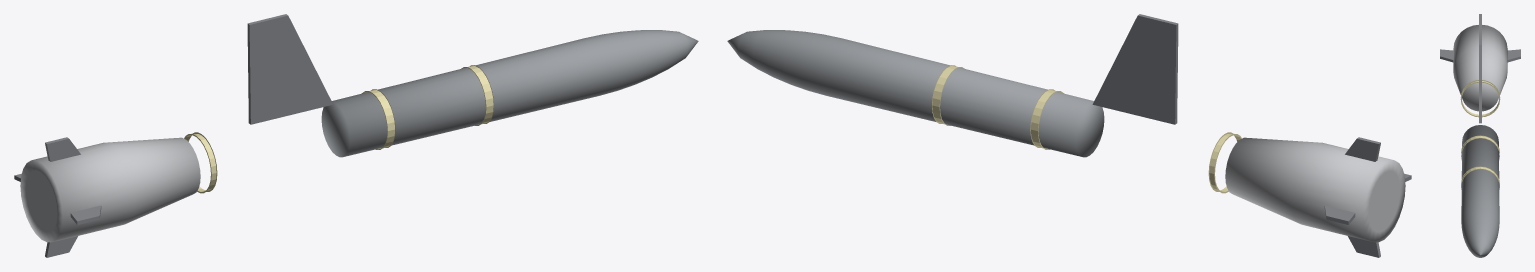
File: RU_ASM_P70_LOD1.fbx
The picture shows the model from 3 angles, left to right: view 1: azimuth 30°, elevation 25°; view 2: azimuth 150°, elevation 25°; view 3: azimuth 270°, elevation 25°; orthographic projection. The views are drawn at different scales.
Visible parts, largest first — view 1: WPN_RU_ASM_P70_LOD1_Body, WPN_RU_ASM_P70_LOD1_Tail, WPN_RU_ASM_P70_LOD1_Wings, WPN_RU_ASM_P70_LOD1_Marking, WPN_RU_ASM_P70_LOD1_Fins; view 2: WPN_RU_ASM_P70_LOD1_Body, WPN_RU_ASM_P70_LOD1_Tail, WPN_RU_ASM_P70_LOD1_Wings, WPN_RU_ASM_P70_LOD1_Marking, WPN_RU_ASM_P70_LOD1_Fins; view 3: WPN_RU_ASM_P70_LOD1_Body, WPN_RU_ASM_P70_LOD1_Tail, WPN_RU_ASM_P70_LOD1_Marking, WPN_RU_ASM_P70_LOD1_Fins, WPN_RU_ASM_P70_LOD1_Wings.
Boxes of the visible parts, <box> form: WPN_RU_ASM_P70_LOD1_Body: <box>321,30,698,157</box>; WPN_RU_ASM_P70_LOD1_Tail: <box>20,137,200,242</box>; WPN_RU_ASM_P70_LOD1_Wings: <box>247,14,333,124</box>; WPN_RU_ASM_P70_LOD1_Marking: <box>184,65,493,193</box>; WPN_RU_ASM_P70_LOD1_Fins: <box>14,137,101,257</box>; WPN_RU_ASM_P70_LOD1_Body: <box>727,30,1104,157</box>; WPN_RU_ASM_P70_LOD1_Tail: <box>1225,137,1405,242</box>; WPN_RU_ASM_P70_LOD1_Wings: <box>1092,14,1178,124</box>; WPN_RU_ASM_P70_LOD1_Marking: <box>932,65,1241,193</box>; WPN_RU_ASM_P70_LOD1_Fins: <box>1324,137,1411,257</box>; WPN_RU_ASM_P70_LOD1_Body: <box>1461,125,1499,257</box>; WPN_RU_ASM_P70_LOD1_Tail: <box>1453,25,1507,111</box>; WPN_RU_ASM_P70_LOD1_Marking: <box>1460,80,1500,189</box>; WPN_RU_ASM_P70_LOD1_Fins: <box>1440,14,1520,62</box>; WPN_RU_ASM_P70_LOD1_Wings: <box>1479,32,1481,123</box>.
Size of the model in its own units: 7 by 1.16 by 1.87.
